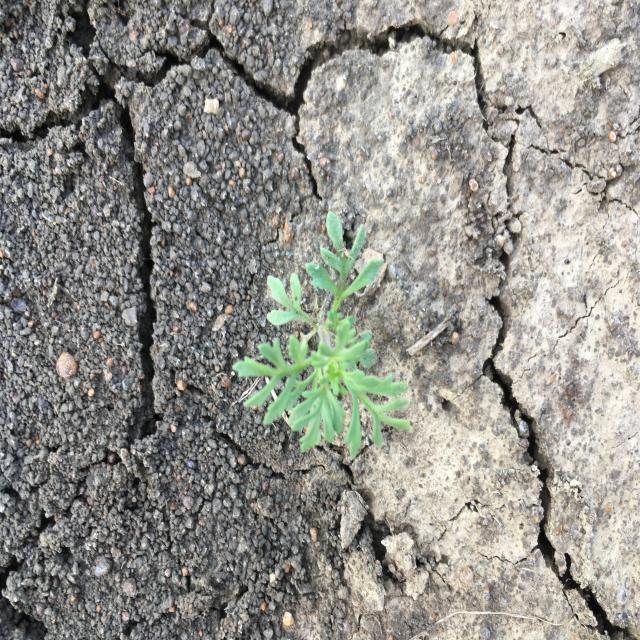Ragweed: (230, 208, 416, 462)
